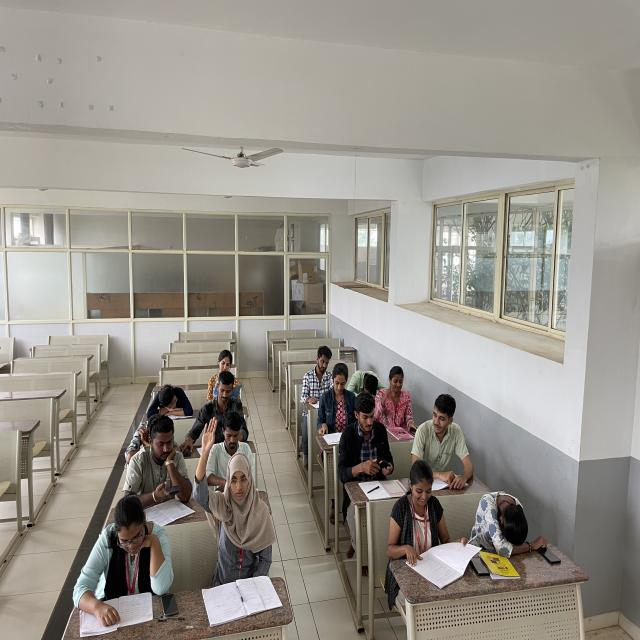Hand Rising: (196, 414, 272, 583)
Reading: (77, 502, 155, 625), (393, 459, 456, 572), (316, 363, 354, 446), (203, 346, 255, 406)
Sleeping: (474, 489, 533, 552), (140, 376, 194, 426), (350, 369, 386, 402)
Using Phone: (125, 417, 192, 516)
